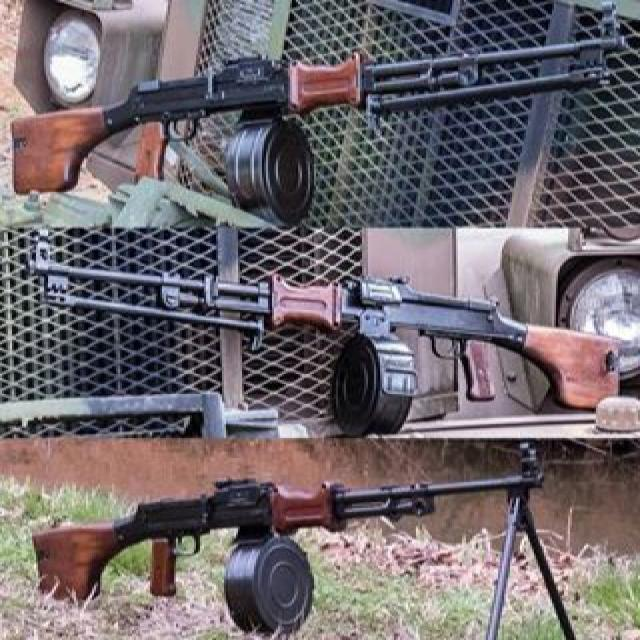rifle: (13, 21, 633, 221), (17, 244, 627, 441), (13, 446, 579, 633)
